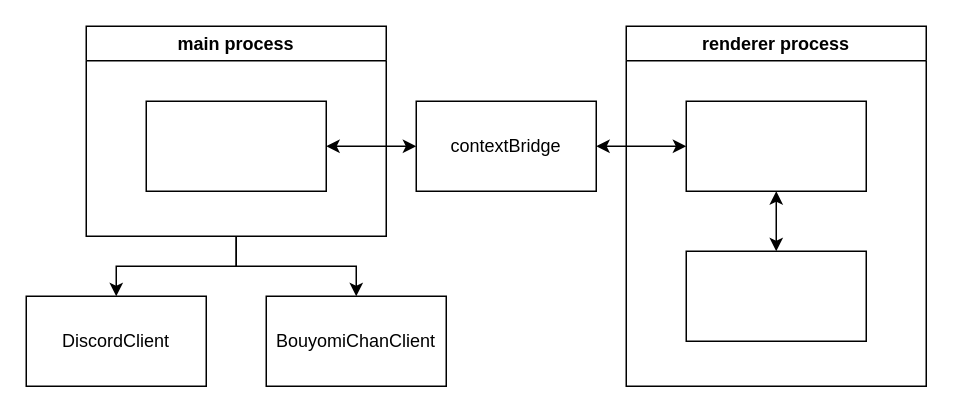
Image size: 953x413. Some labels were removed from this diagram. The centre of each missing label's shape, as x and y in pixels:
MainIPC: (x=235, y=145)
React: (x=775, y=295)
RTK Query: (x=775, y=145)
